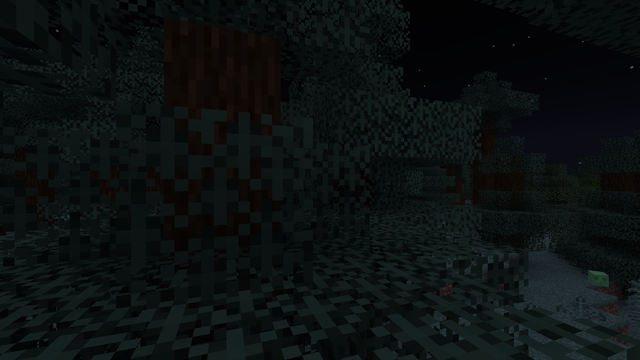slimes: (586, 269, 608, 286)
